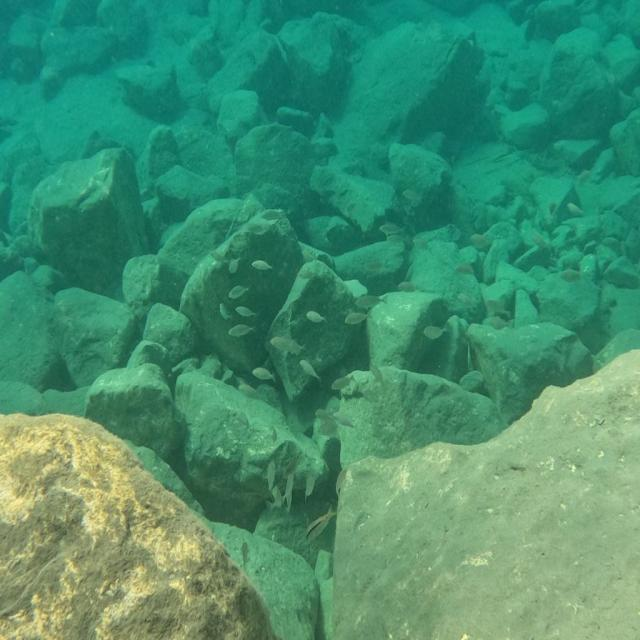Sokar Baligi: (303, 501, 341, 555), (270, 329, 308, 356), (421, 317, 453, 349)
